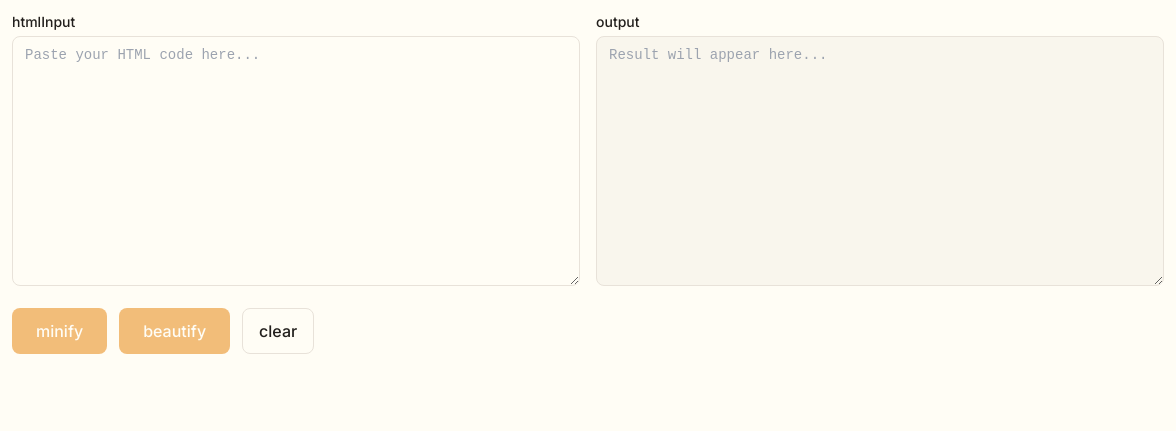
Test: HtmlMinifier › shows statistics after beautification
The image size is (1176, 431).
Type "<div><p>hello</p></div>" into the text box named "HTML input" at (296, 161), box [12,36,580,286]
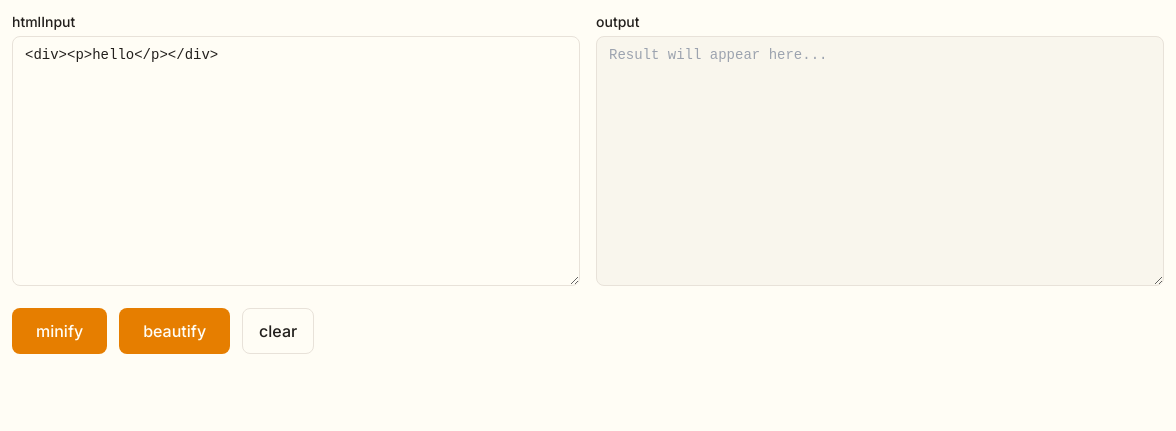
Click the button "beautify" at (175, 331), box [119,308,230,354]
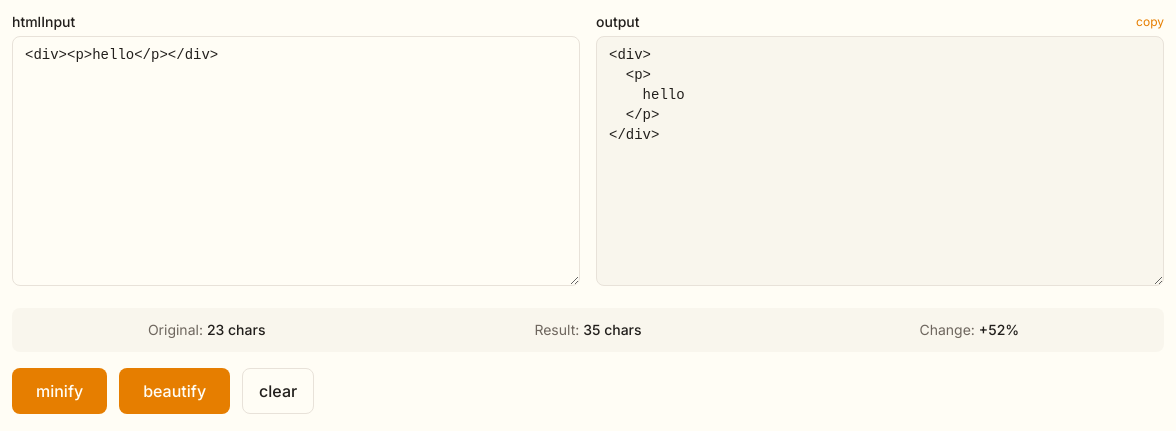
Expected: the text "Original:" is shown, [148,321,207,338]
Expected: the text "Result:" is shown, [534,321,583,338]
